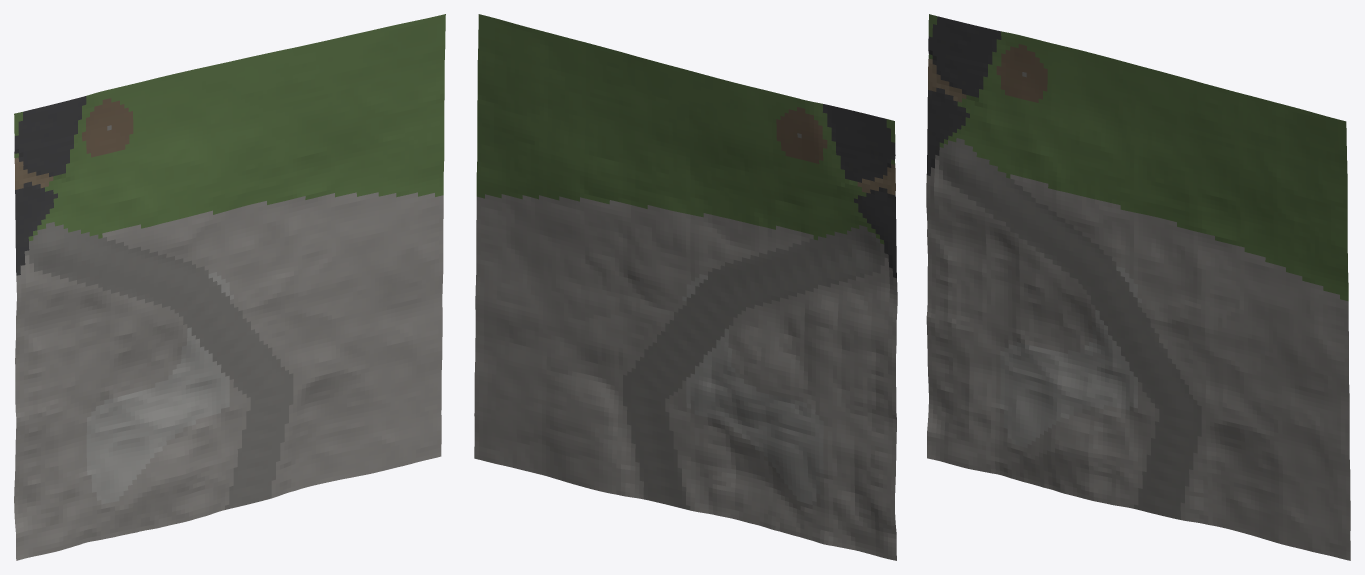
Rendered from SARM_SAR_Terrain_03_03.glb.
The picture shows the model from 3 angles, left to right: view 1: azimuth 30°, elevation 25°; view 2: azimuth 150°, elevation 25°; view 3: azimuth 330°, elevation 25°; orthographic projection.
Visible parts, largest first — view 1: SAR_Terrain_03_03.001; view 2: SAR_Terrain_03_03.001; view 3: SAR_Terrain_03_03.001.
Part boxes in pixels (bbox=[...]): SAR_Terrain_03_03.001: bbox=[14, 14, 445, 560]; SAR_Terrain_03_03.001: bbox=[474, 14, 897, 560]; SAR_Terrain_03_03.001: bbox=[926, 14, 1350, 560].
Bounding box in the file's own units: 50 × 50 × 1.39.
